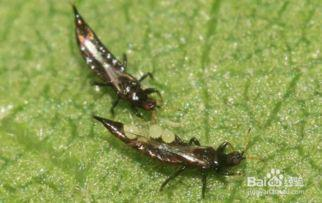tiny_pests: (53, 0, 190, 121), (79, 111, 263, 201)
